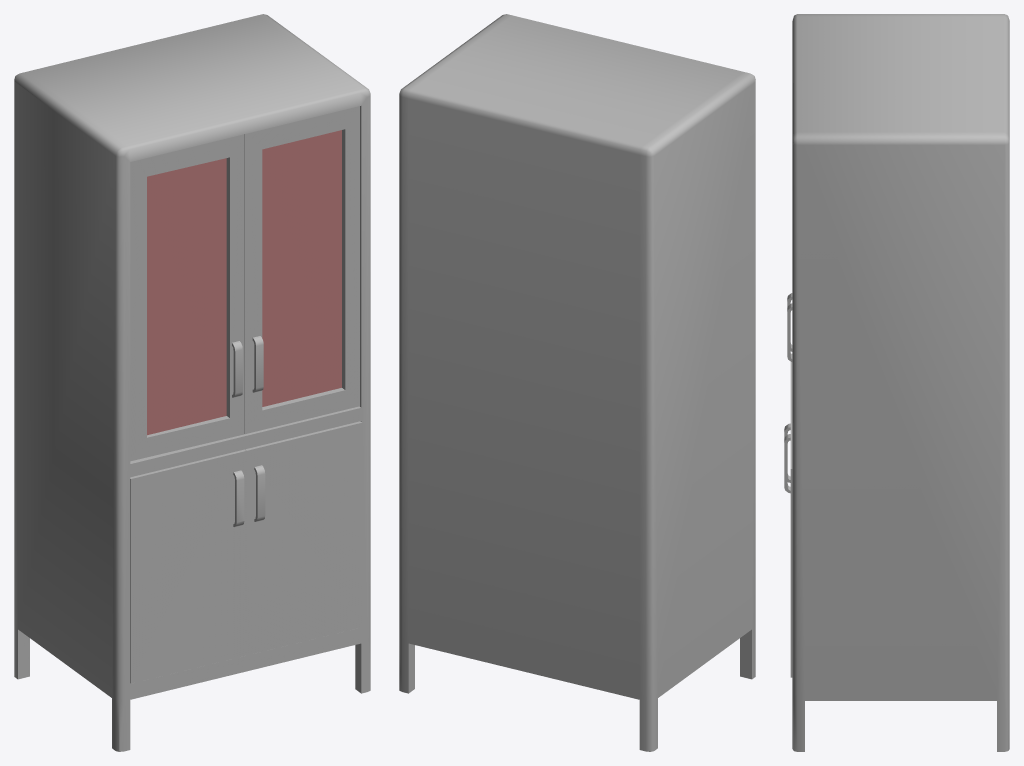
Rendered from SM_MedicalCabinet_01a.FBX.
3 renders of one model, left to right at view 1: azimuth 30°, elevation 25°; view 2: azimuth 150°, elevation 25°; view 3: azimuth 270°, elevation 25°, orthographic.
Parts seen in each view (by area): view 1: SM_MedicalCabinet_01a_LOD0; view 2: SM_MedicalCabinet_01a_LOD0; view 3: SM_MedicalCabinet_01a_LOD0.
Part boxes in pixels (box(x1,y1,x2,y2)): SM_MedicalCabinet_01a_LOD0: box(14, 14, 370, 751); SM_MedicalCabinet_01a_LOD0: box(399, 14, 755, 751); SM_MedicalCabinet_01a_LOD0: box(784, 14, 1009, 751).
Size of what is drawn, in the model's own units: 87.22 by 197 by 65.52.
